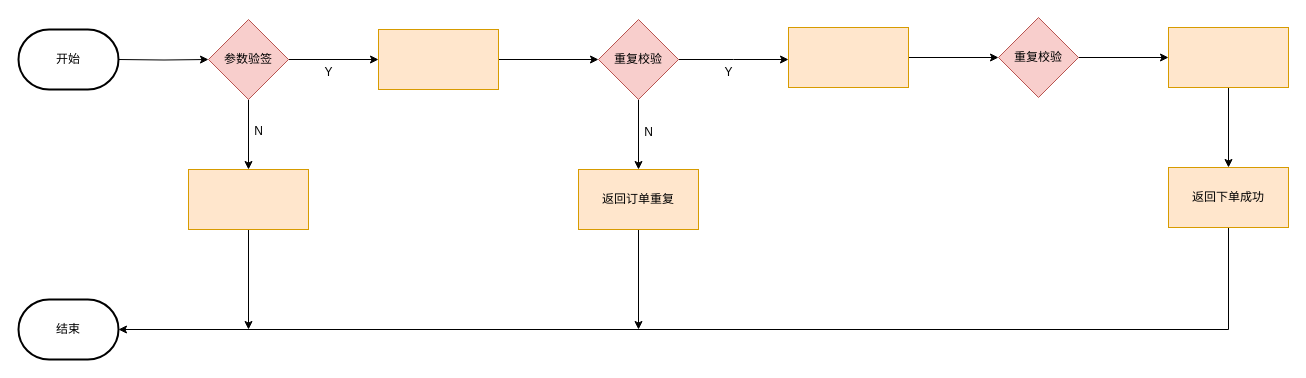
The diagram is 1306 pixels wide and 378 high, and some of its shapes have lost their labels. The box of each missing label's shape, as (x1, y1, x2, y2) in pixels:
创建阳光订单 、业务订单 发布事件: (1168, 26, 1288, 88)
加锁 查询业务订单: (788, 26, 908, 88)
查询业务订单: (378, 28, 498, 90)
返回签名校验失败: (188, 168, 308, 230)
